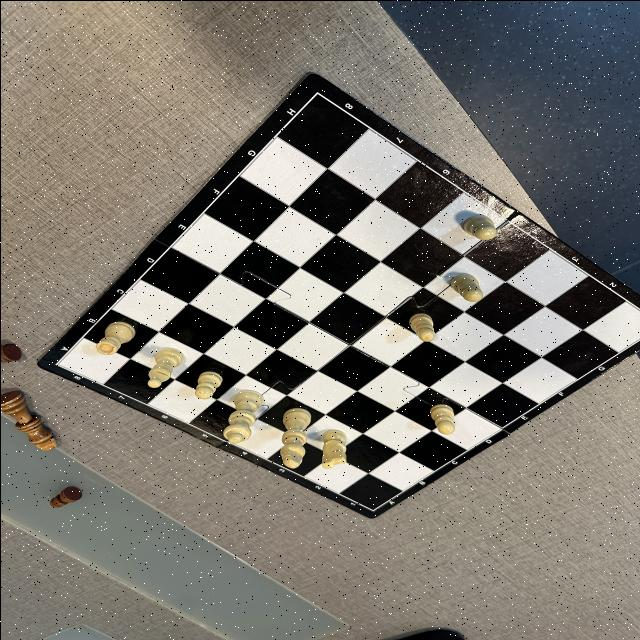Black-King: (0, 389, 58, 451)
Black-Pawn: (47, 484, 82, 508)
White-Bishop: (146, 347, 184, 387)
White-King: (279, 406, 311, 468)
White-Knight: (320, 428, 346, 468)
White-Pawn: (450, 272, 482, 302), (462, 214, 496, 239), (407, 312, 435, 342), (428, 402, 454, 433), (194, 370, 222, 398)
White-Queen: (222, 389, 263, 443)
White-Rook: (95, 320, 135, 354)
